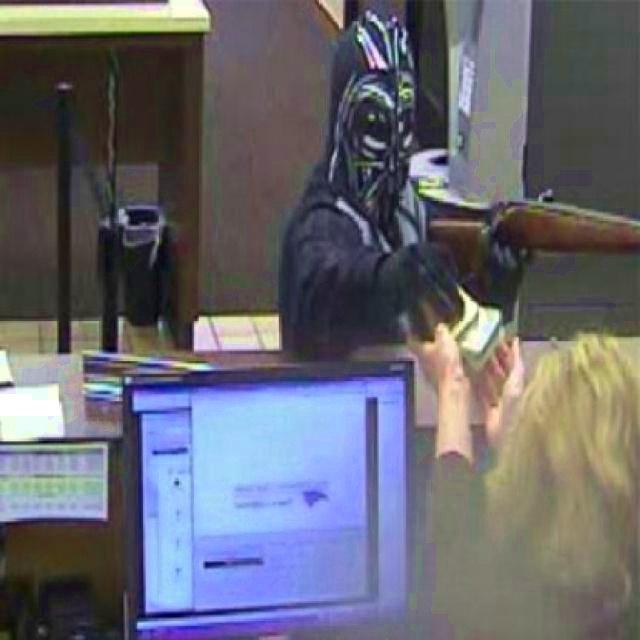gun: (423, 173, 640, 299)
